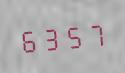five: (62, 20, 83, 51)
seven: (84, 18, 105, 49)
six: (18, 23, 39, 54)
three: (40, 21, 61, 53)
